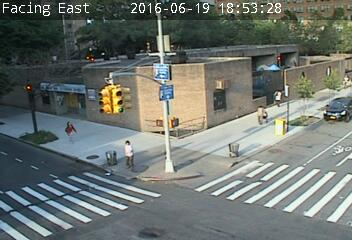neg: (189, 45, 222, 89), (101, 70, 128, 105), (167, 106, 191, 137), (135, 95, 153, 119), (319, 67, 337, 90), (264, 46, 280, 68), (152, 81, 165, 98)
pos: (114, 137, 142, 174), (59, 119, 77, 143), (252, 103, 269, 126), (270, 86, 286, 107), (338, 73, 349, 88)
